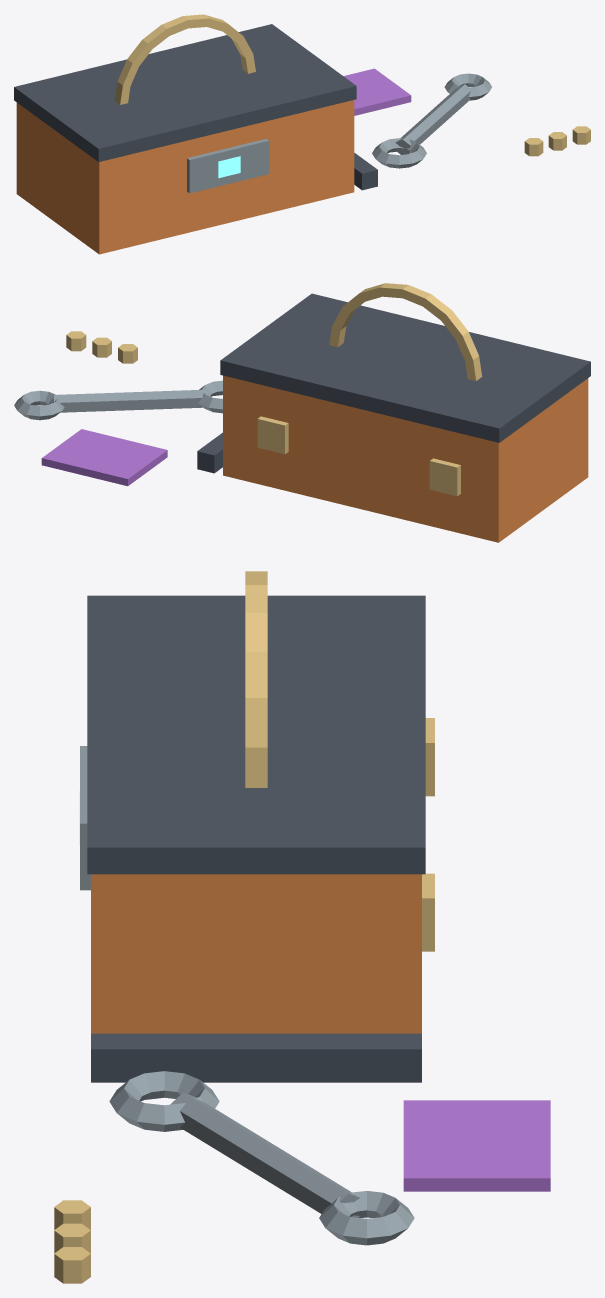
The model's file is sub_repair_kit.glb.
The picture shows the model from 3 angles, top to bottom: view 1: azimuth 30°, elevation 25°; view 2: azimuth 150°, elevation 25°; view 3: azimuth 270°, elevation 25°; orthographic projection. The views are drawn at different scales.
Parts seen in each view (by area): view 1: sub_repair_kit_accent, sub_repair_kit_dark, sub_repair_kit_hull, sub_repair_kit_brass, sub_repair_kit_shell, sub_repair_kit_glow; view 2: sub_repair_kit_accent, sub_repair_kit_dark, sub_repair_kit_brass, sub_repair_kit_shell, sub_repair_kit_hull; view 3: sub_repair_kit_dark, sub_repair_kit_accent, sub_repair_kit_hull, sub_repair_kit_shell, sub_repair_kit_brass.
Part boxes in pixels (x1,y1,x2,y2): sub_repair_kit_accent: (16, 100, 354, 254); sub_repair_kit_dark: (14, 24, 377, 190); sub_repair_kit_hull: (187, 73, 491, 193); sub_repair_kit_brass: (114, 14, 590, 156); sub_repair_kit_shell: (343, 68, 411, 115); sub_repair_kit_glow: (218, 156, 240, 178); sub_repair_kit_accent: (223, 375, 588, 542); sub_repair_kit_dark: (197, 293, 590, 473); sub_repair_kit_brass: (66, 283, 481, 496); sub_repair_kit_shell: (41, 429, 167, 486); sub_repair_kit_hull: (14, 380, 222, 420); sub_repair_kit_dark: (87, 595, 425, 1082); sub_repair_kit_accent: (91, 874, 421, 1033); sub_repair_kit_hull: (80, 746, 414, 1245); sub_repair_kit_shell: (403, 1100, 550, 1191); sub_repair_kit_brass: (54, 571, 434, 1283).
Bounding box in the file's own units: 3.05 × 1.05 × 1.35.
